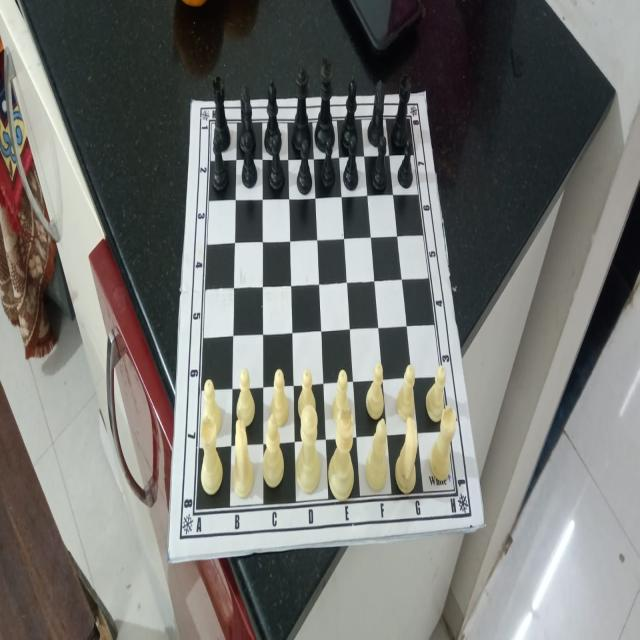corners: (162, 546, 176, 572), (188, 85, 200, 110), (420, 82, 430, 109), (476, 510, 486, 533)
